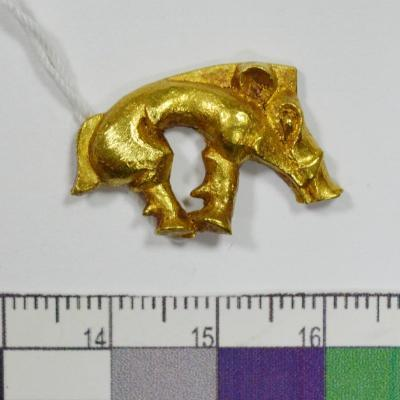archeology: (70, 62, 343, 240)
